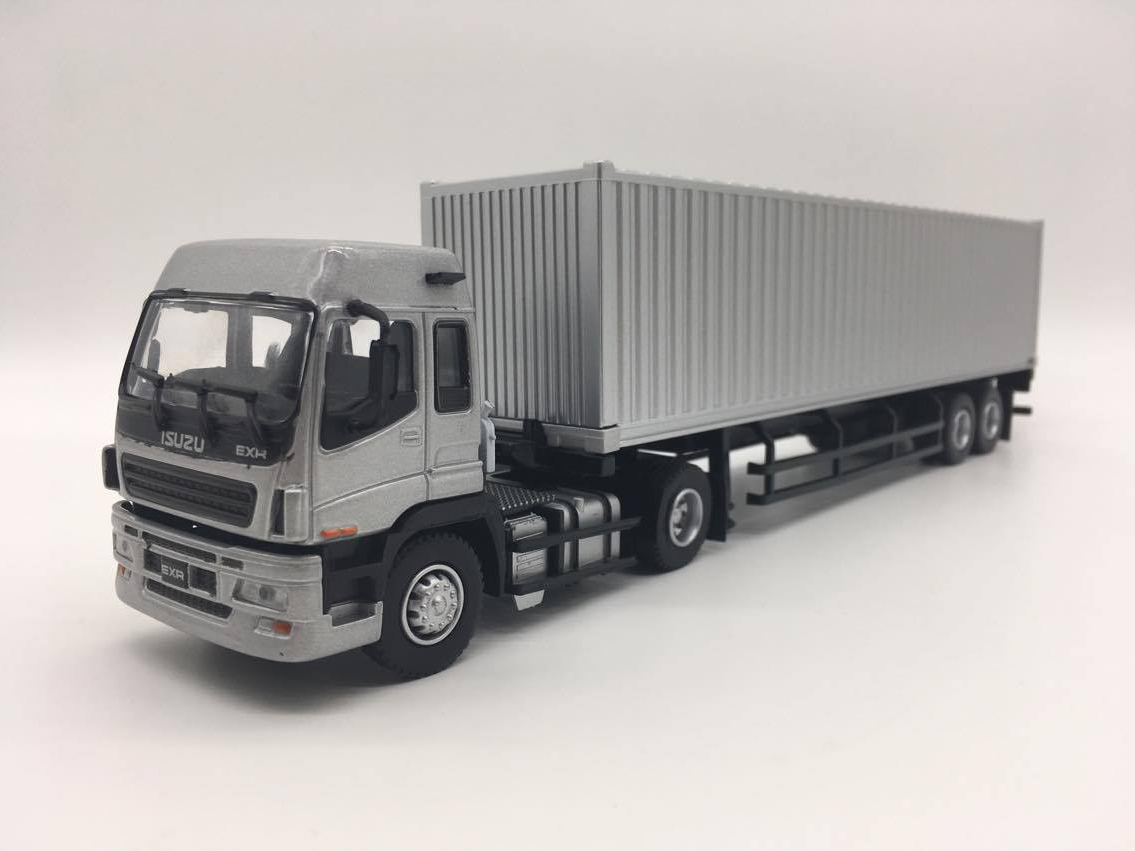truck: (104, 161, 1044, 679)
